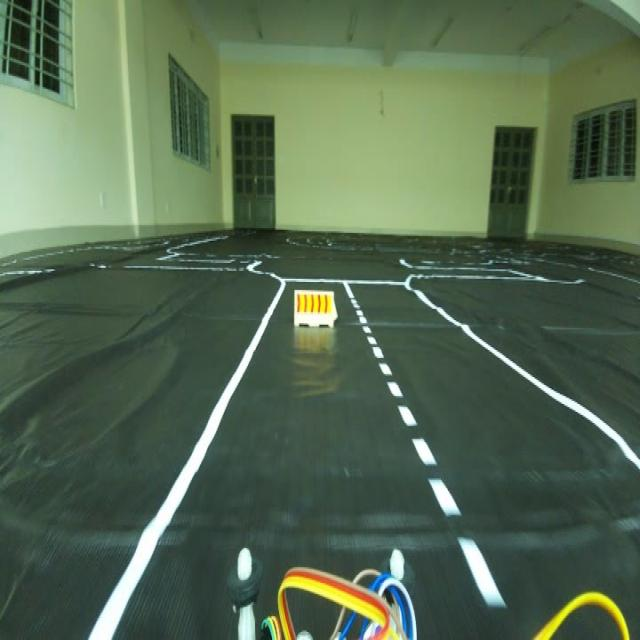roadblock: (288, 279, 342, 342)
